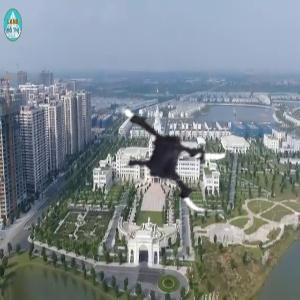drone: (110, 86, 247, 223)
